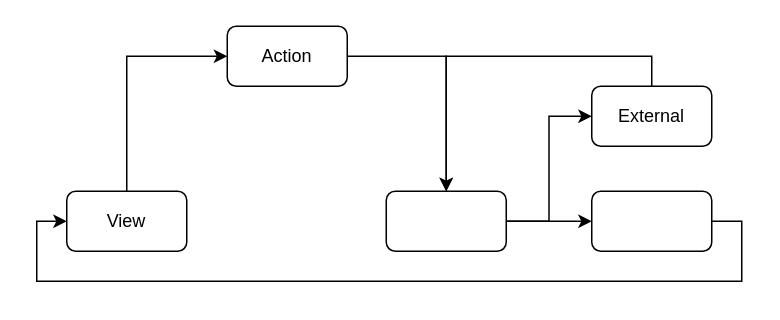
This 780x320 diagram has some shape labels left out. The shapes that lost their labels are listed below. From the top down, each one's centre as x and y in pixels, then its label:
At pixel 445 220: "Reducer".
At pixel 651 220: "State".
